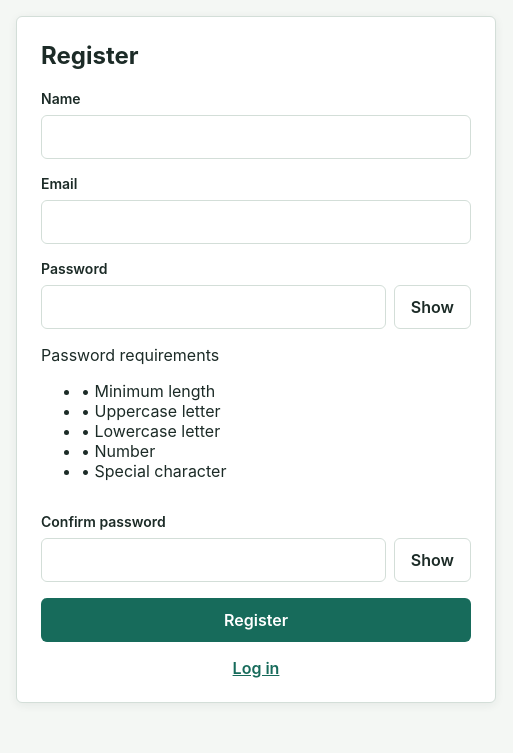
Scenario: RegistrationPage › displays a safe error after registration fails and clears it when edited
In the field labelled "Name": (256, 137) [41,115,471,159], type "Renter Name"
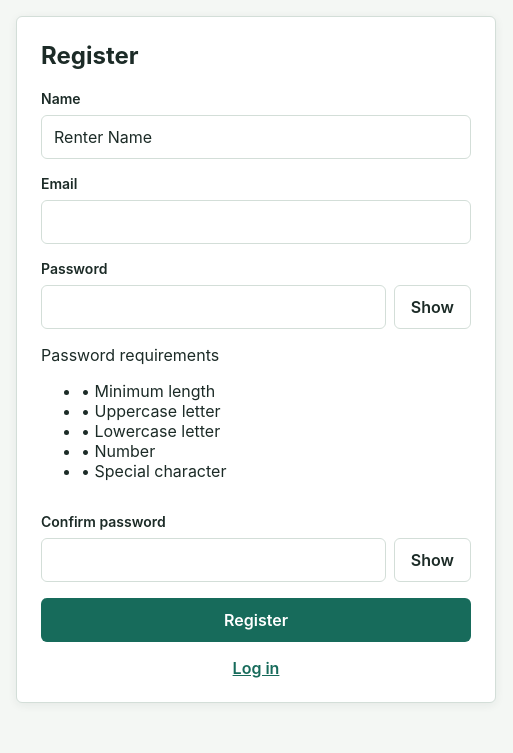
In the field labelled "Email": (256, 222) [41,200,471,244], type "renter@example.com"
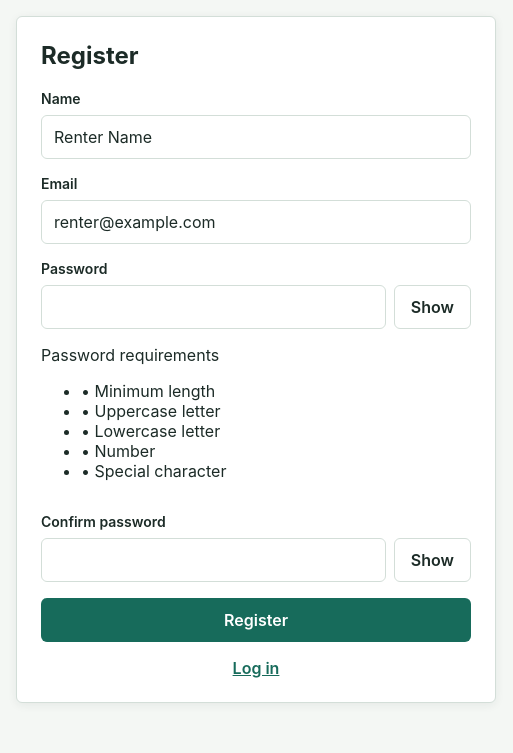
In the password field labelled "Password": (213, 307) [41,285,386,329], type "Correct-horse-battery1!"
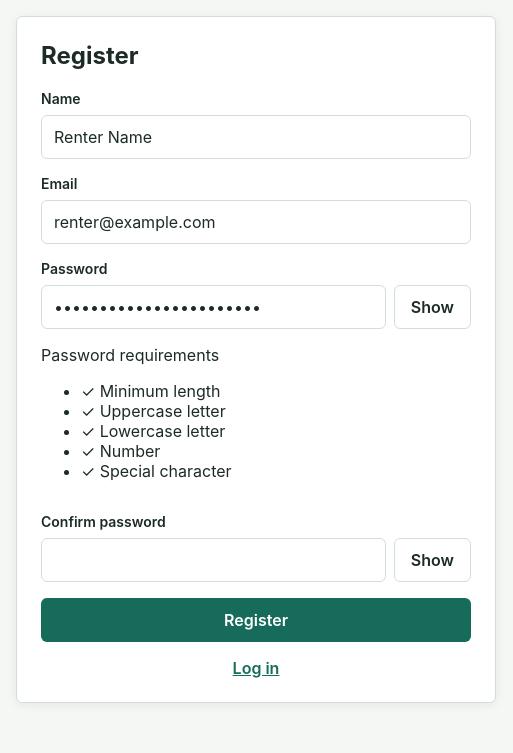
In the password field labelled "Confirm password": (213, 560) [41,538,386,582], type "Correct-horse-battery1!"
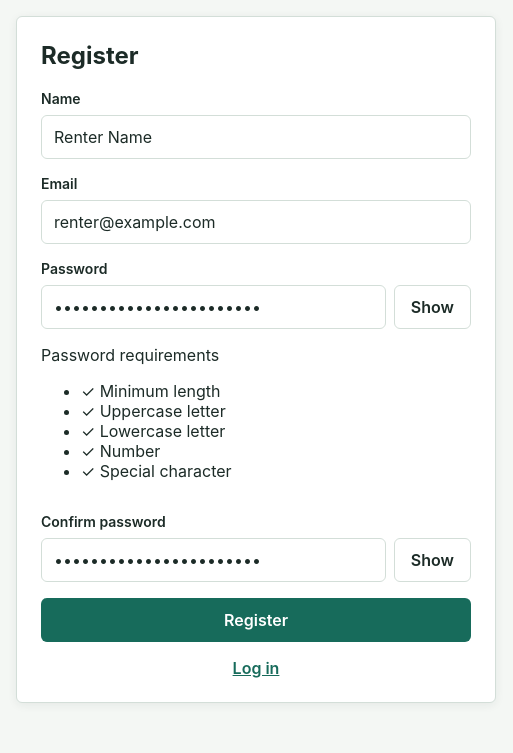
Click the button "Register": (256, 620) [41,598,471,642]
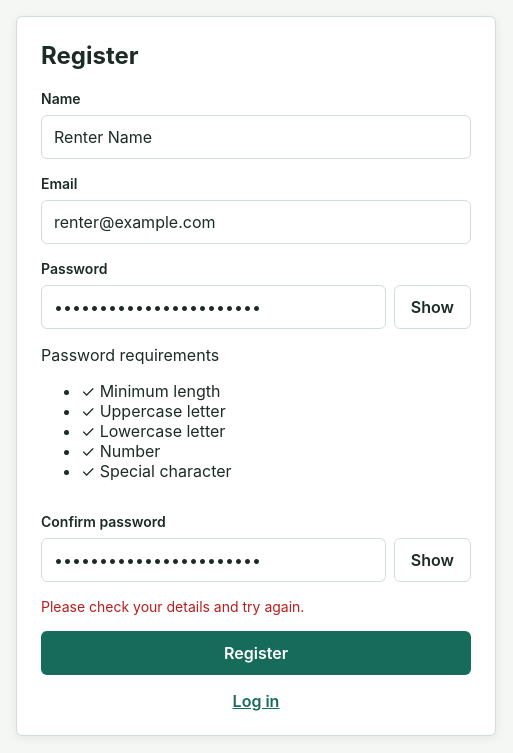
Expected: the message "Please check your details and try again." is shown, [41,598,304,615]
Replace the text in the field labelled "Name" with "Updated Name": (256, 137) [41,115,471,159]
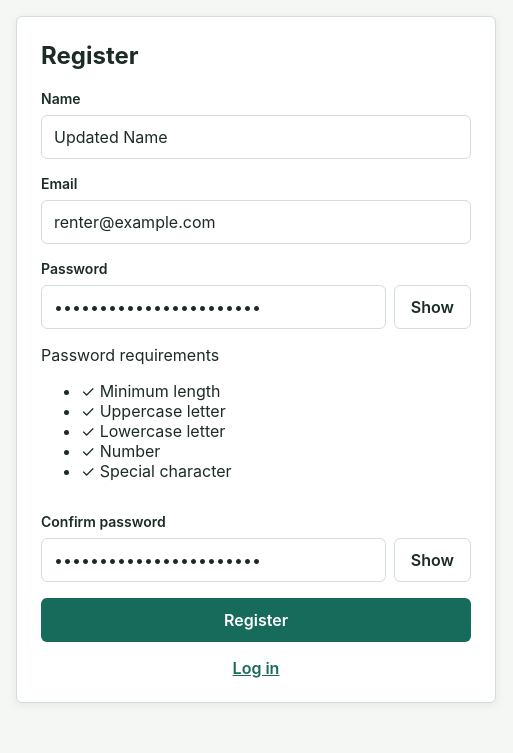
Expected: the message "Please check your details and try again." is gone
